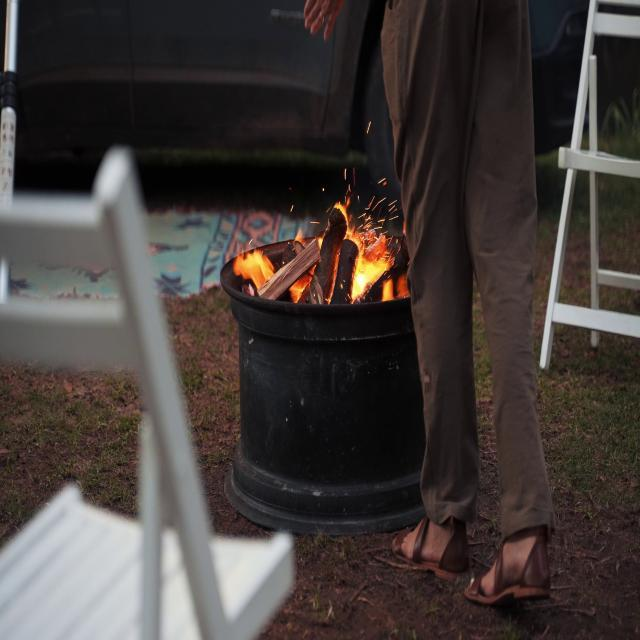Fire: (334, 190, 414, 298), (229, 233, 284, 302)
